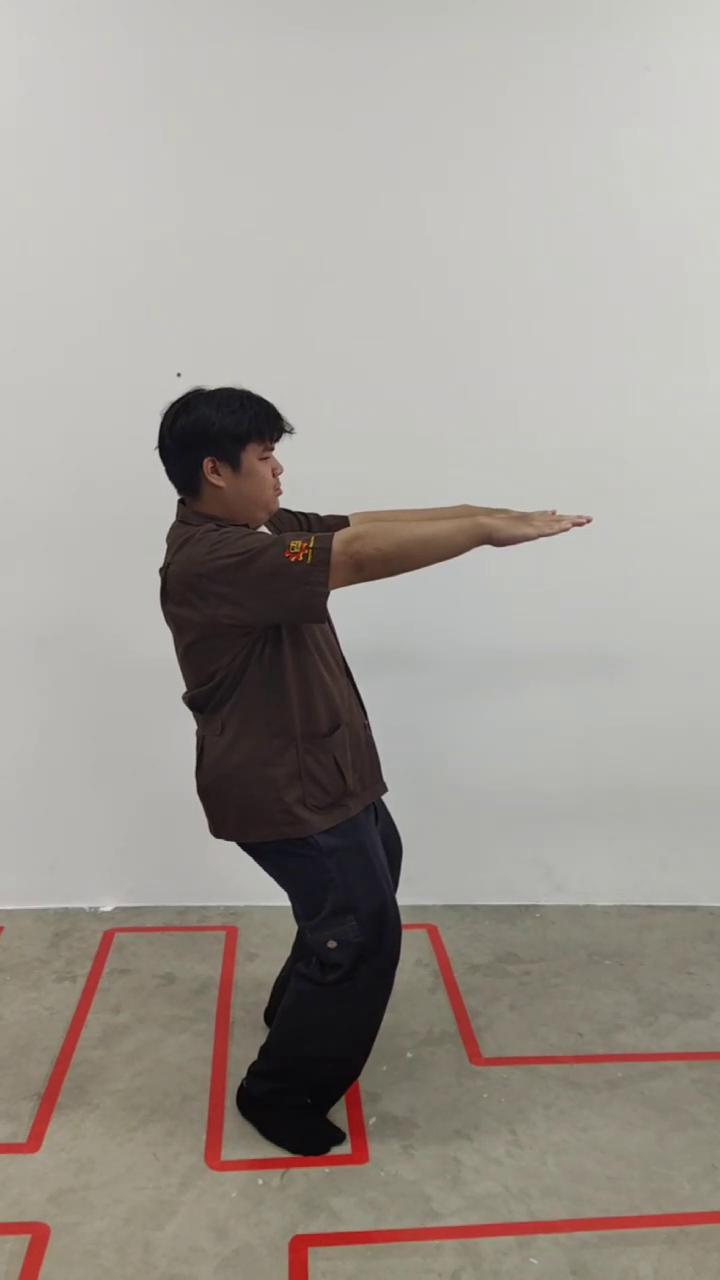squat up: (158, 383, 574, 1163)
